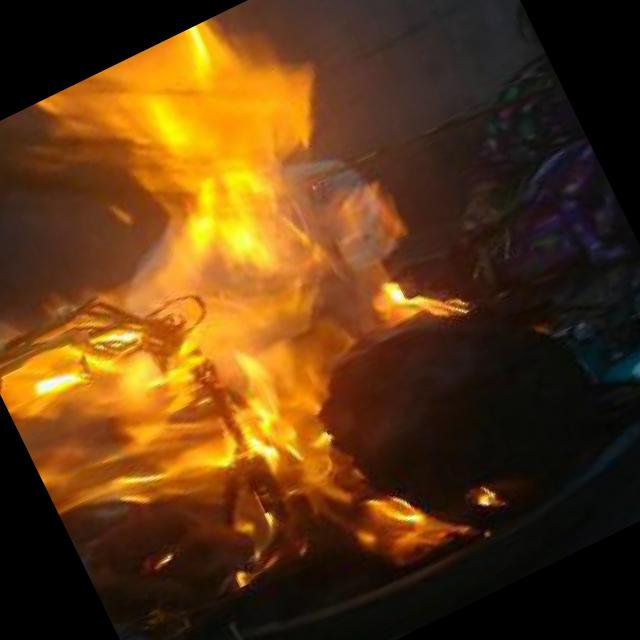fire: (0, 0, 553, 640)
